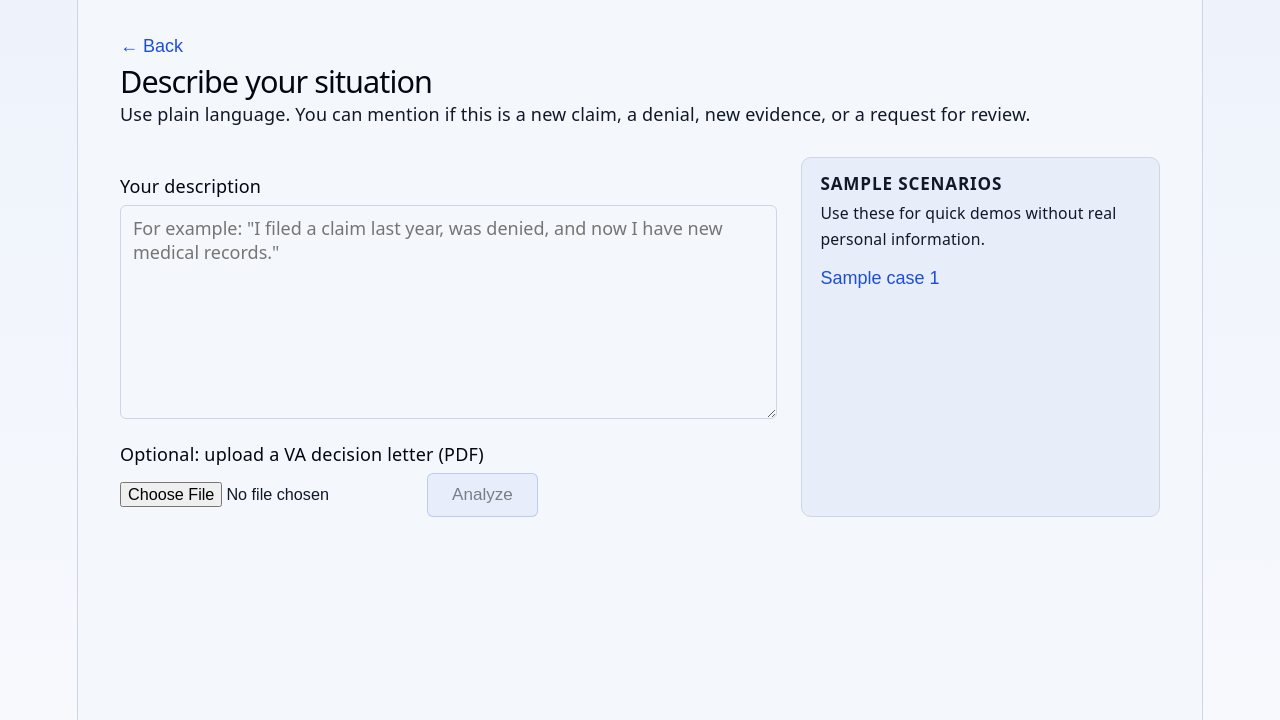
IntakePage › populates textarea when a sample case is clicked
Click the button "Sample case 1" at (880, 279), box [820,268,940,289]
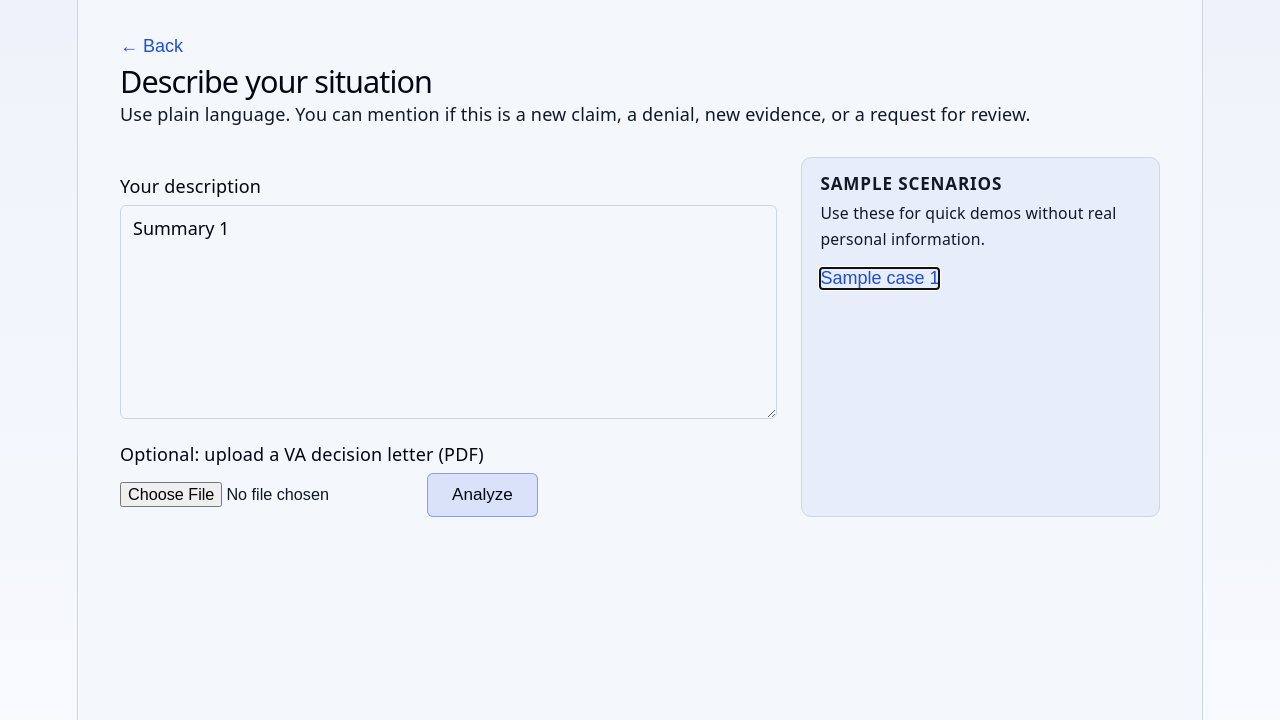
Check: the text box labelled "Your description" holds "Summary 1", box [120,205,777,419]
